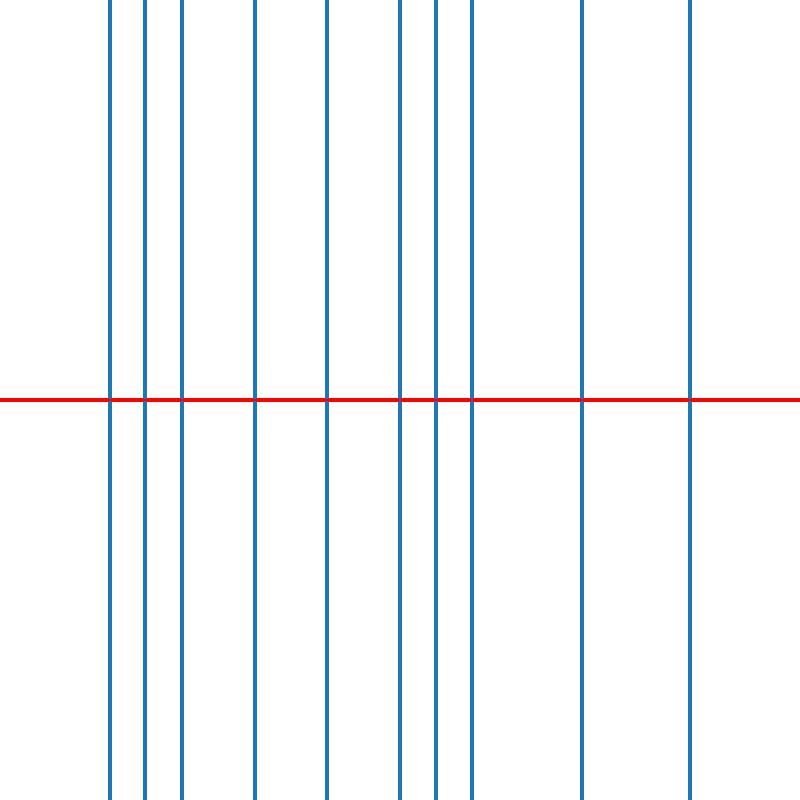root: (250, 396, 258, 404), (432, 396, 440, 404), (141, 396, 149, 404), (578, 396, 585, 404), (687, 396, 694, 404), (396, 396, 403, 404), (105, 396, 112, 404), (178, 396, 185, 404), (469, 396, 476, 404), (323, 396, 330, 404)
